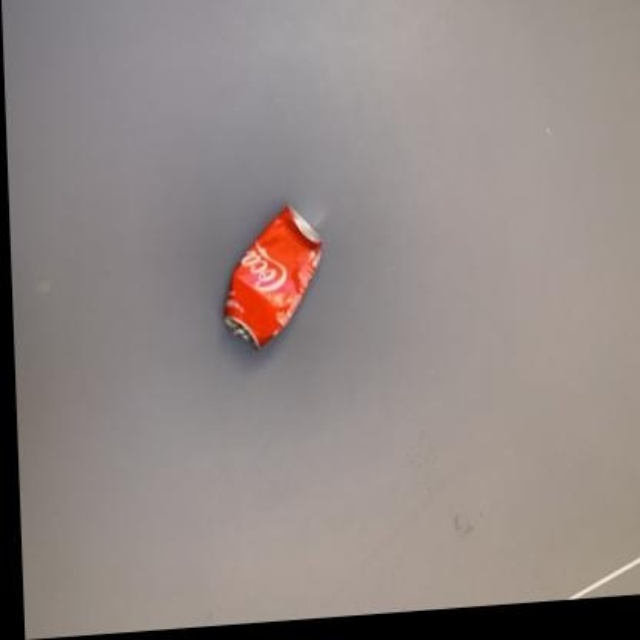trash: (223, 206, 320, 346)
